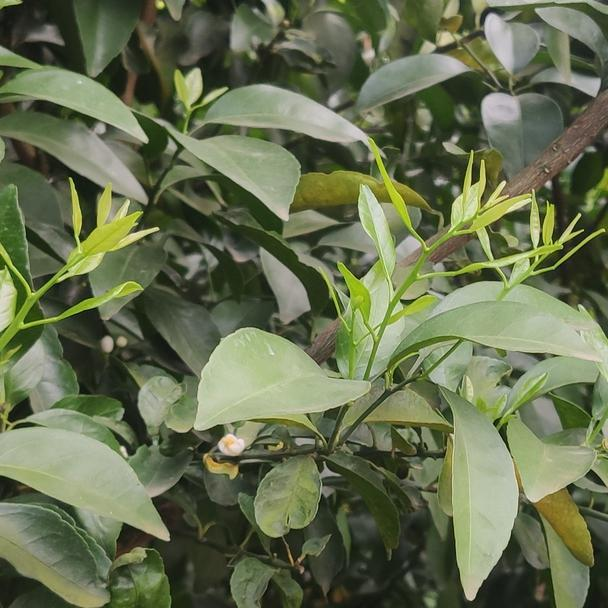shoot: (349, 134, 538, 339), (6, 197, 168, 354), (483, 211, 600, 325)
